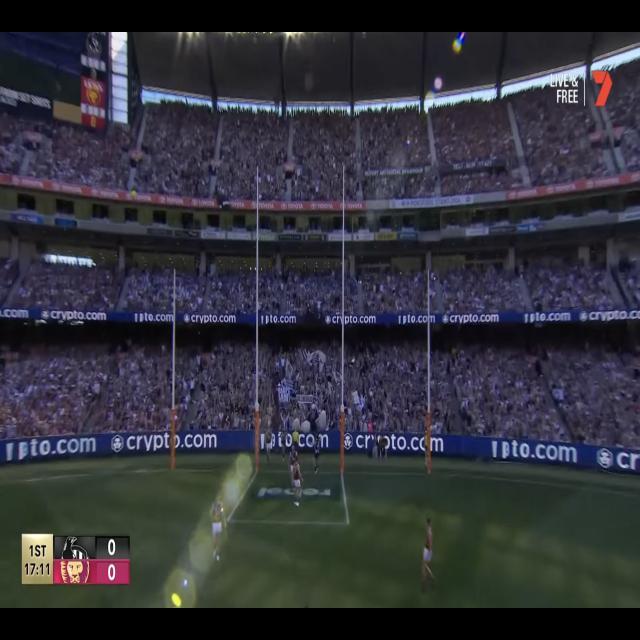crowd: (0, 57, 640, 202), (0, 327, 639, 453), (258, 220, 640, 307), (0, 230, 256, 313)
